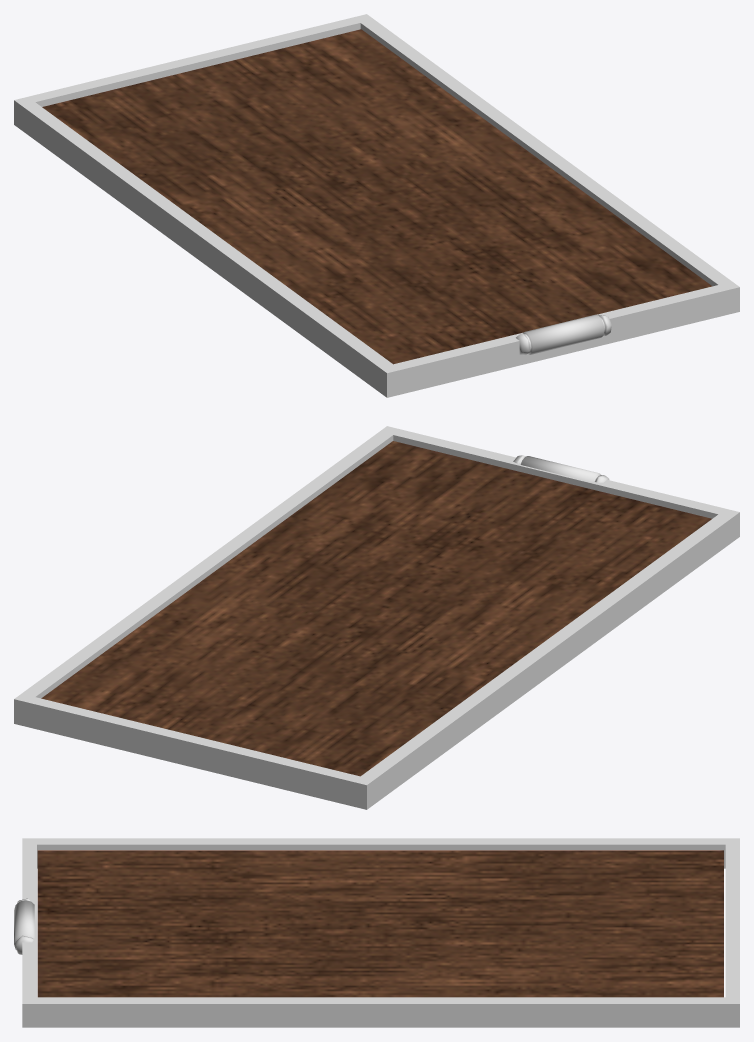
The model's file is LE_Trapdoor.fbx.
The picture shows the model from 3 angles, top to bottom: view 1: azimuth 30°, elevation 25°; view 2: azimuth 150°, elevation 25°; view 3: azimuth 270°, elevation 25°; orthographic projection. The views are drawn at different scales.
Parts seen in each view (by area): view 1: Cube, Cylinder; view 2: Cube, Cylinder; view 3: Cube, Cylinder.
Boxes of the visible parts, x1,y1,x2,y2 form: Cube: (42,29,712,364); Cylinder: (14,14,739,397); Cube: (41,441,711,776); Cylinder: (14,426,739,809); Cube: (37,850,723,997); Cylinder: (14,838,739,1027).
Bounding box in the file's own units: 356 × 35.68 × 659.
